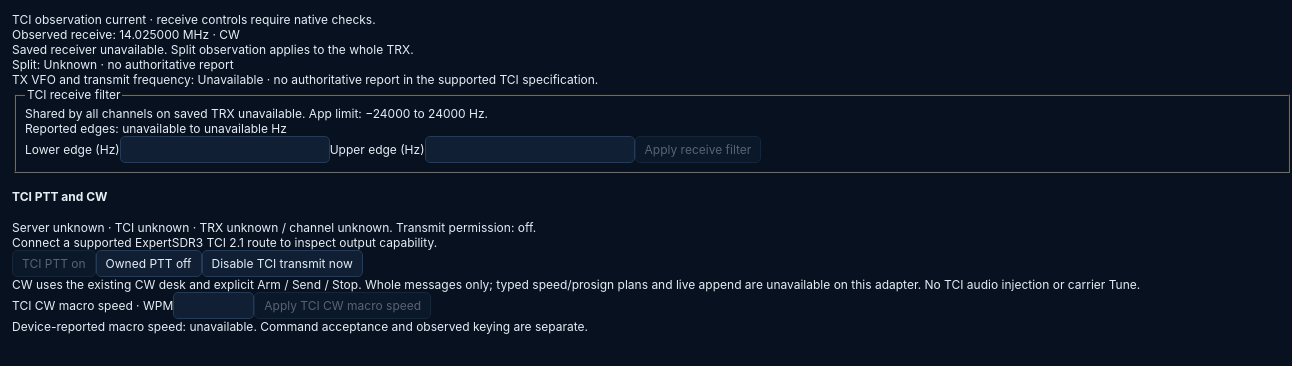
immediate disable uses one dedicated native coordinator after exact current connection lookup
What coordinates should you click on to do the following:
click the button "Disable TCI transmit now"
I would click on:
 (282, 263)
Its box is [202,250,363,277].
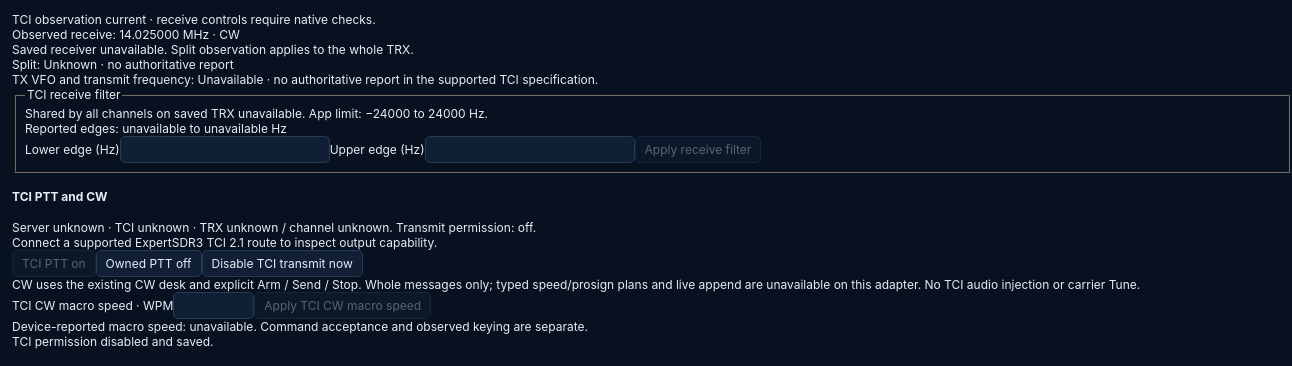
Check: the message "TCI permission disabled and saved." is shown, box [12,334,214,349]
